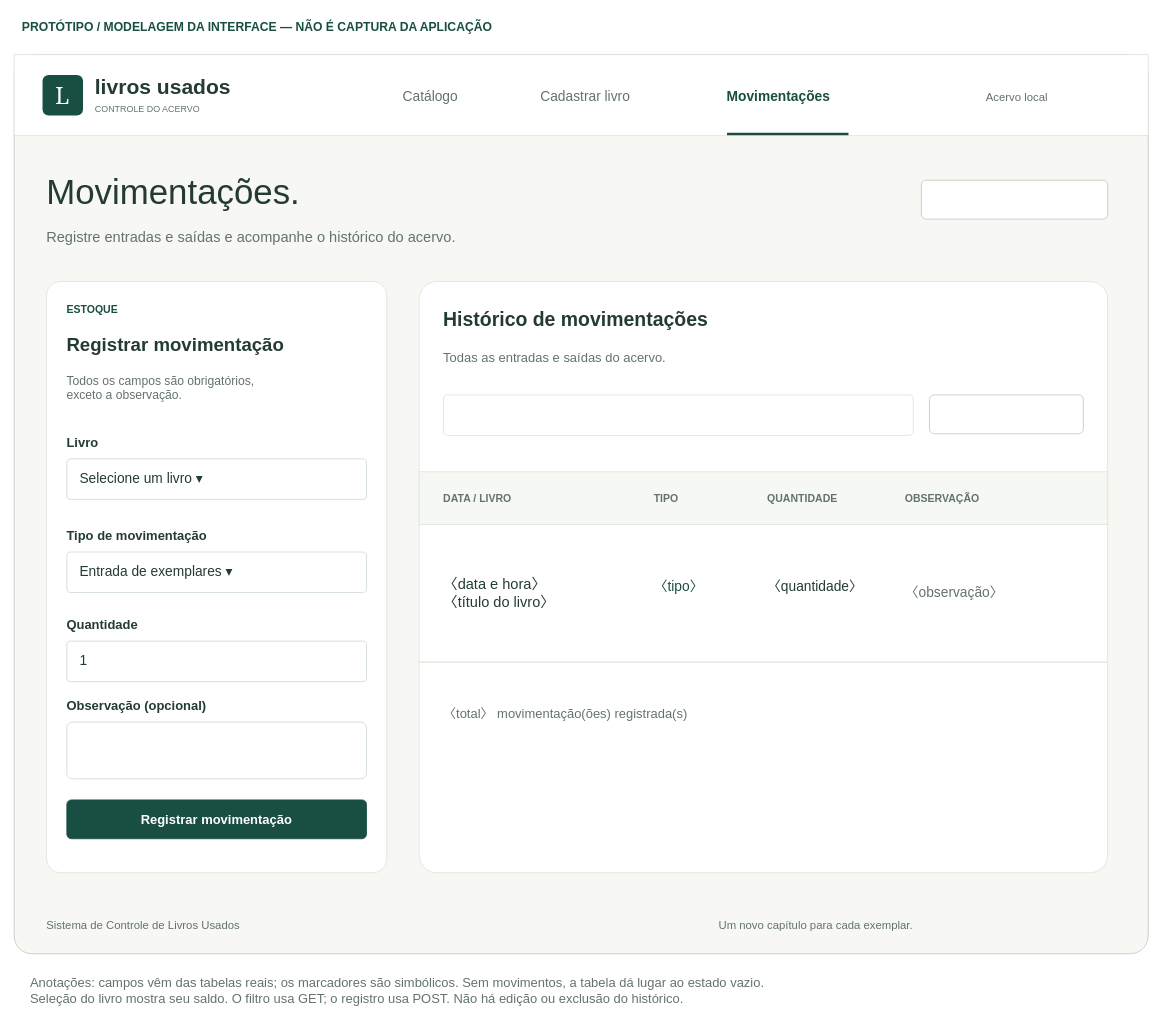
This 1162x1032 diagram has some shape labels left out. The shapes that lost their labels are listed below. From the top down, each one's centre as x and y in pixels, then its label:
point (1014, 199): Ver catálogo ↗
point (678, 414): Todos os livros ▾
point (1006, 414): Filtrar
